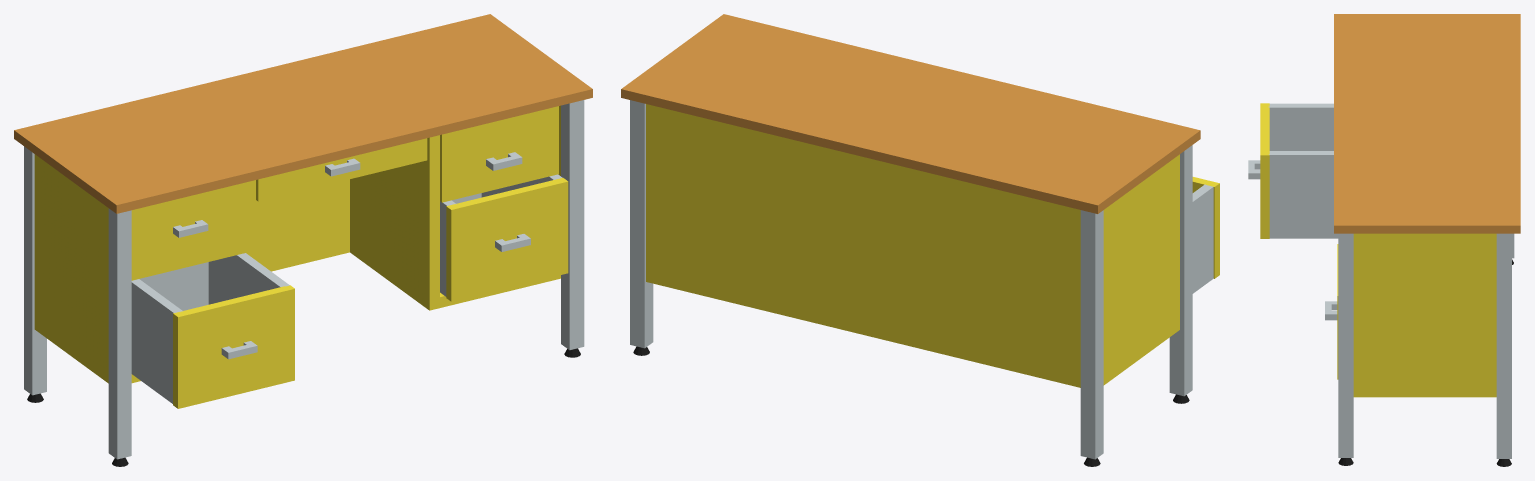
File: office-desk-by-ryan-donaldson-6U8mjPXCH1-.glb
3 renders of one model, left to right at view 1: azimuth 30°, elevation 25°; view 2: azimuth 150°, elevation 25°; view 3: azimuth 270°, elevation 25°, orthographic. The views are drawn at different scales.
Visible parts, largest first — view 1: group1001655468, group1945801892, group1647182280, group1480470543, group296326882, group1178923341, group1721381423, group856145787, group1592258980, group2066243278, group430921715, group1224485784 (+1 smaller); view 2: group1592258980, group1001655468, group1647182280, group1178923341, group2066243278, group1945801892; view 3: group1001655468, group35120746, group1945801892, group2066243278, group1480470543.
Boxes of the visible parts, x1,y1,x2,y2 form: group1001655468: (14,14,592,213); group1945801892: (131,253,294,408); group1647182280: (34,154,108,383); group1480470543: (440,174,568,301); group296326882: (350,135,439,310); group1178923341: (24,146,131,466); group1721381423: (131,182,245,280); group856145787: (440,106,558,202); group1592258980: (256,179,349,271); group2066243278: (561,100,584,357); group430921715: (256,138,427,201); group1224485784: (246,180,255,259); group1592258980: (646,104,1080,387); group1001655468: (621,14,1200,213); group1647182280: (1103,154,1179,385); group1178923341: (1080,145,1192,466); group2066243278: (630,100,653,355); group1945801892: (1192,177,1219,293); group1001655468: (1334,14,1520,233); group35120746: (1353,233,1496,397); group1945801892: (1248,103,1338,238); group2066243278: (1338,233,1511,466); group1480470543: (1325,244,1338,379).
Size of the model in its own units: 2.28 by 1.22 by 1.24.
